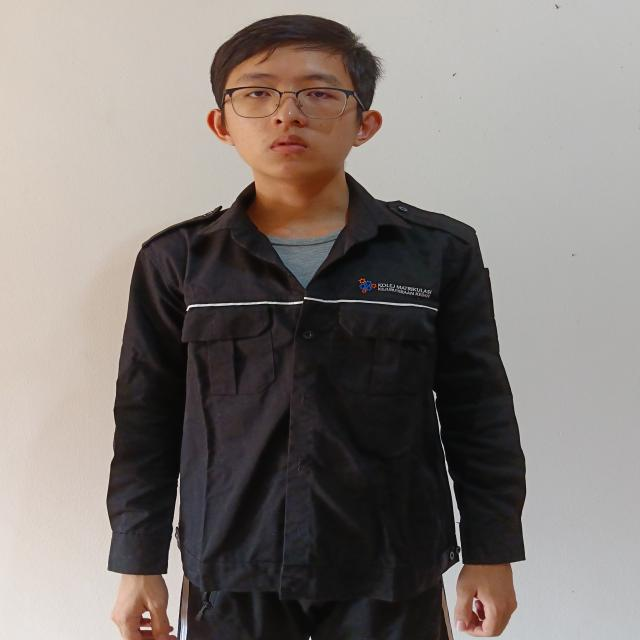person_with_labcoat: (108, 16, 525, 640)
